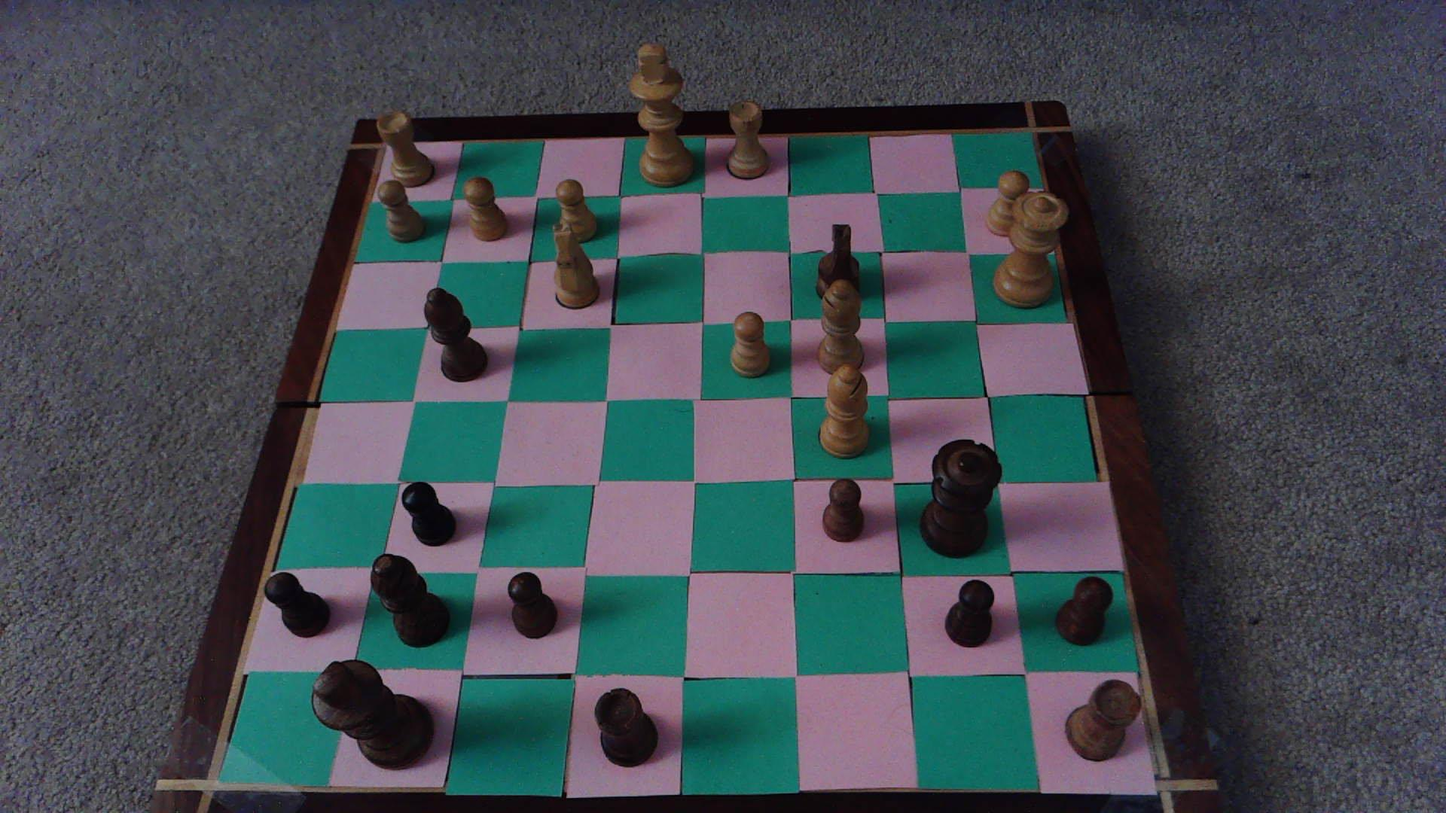dark_piece: (313, 660, 432, 769), (921, 440, 1000, 557), (372, 554, 448, 647), (1066, 680, 1140, 760), (424, 288, 487, 381), (595, 688, 657, 766), (265, 573, 329, 637), (1056, 576, 1112, 644), (815, 222, 861, 303), (401, 482, 455, 546), (508, 572, 556, 638), (946, 580, 993, 647), (822, 479, 863, 541)
white_piece: (629, 43, 691, 187), (993, 192, 1067, 307), (815, 278, 864, 374), (820, 364, 868, 457), (551, 221, 601, 308), (377, 111, 433, 186), (728, 101, 769, 178), (377, 178, 424, 244), (986, 171, 1030, 237), (555, 178, 598, 242), (464, 176, 507, 240), (729, 312, 769, 377)
